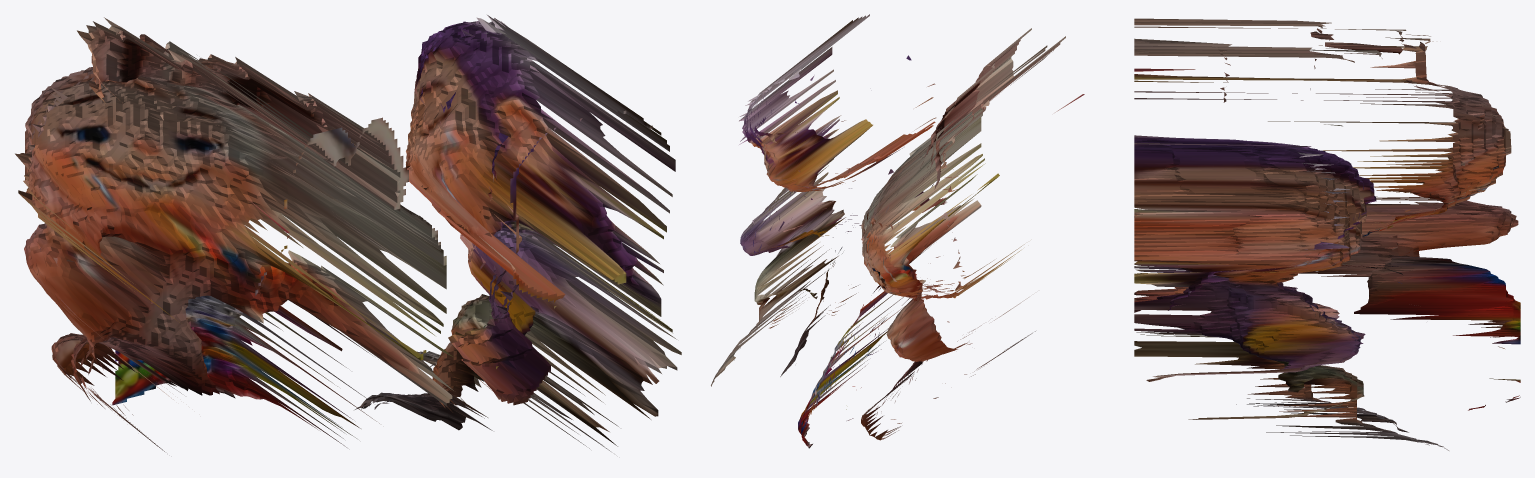
The model's file is frame_00410.glb.
3 renders of one model, left to right at view 1: azimuth 30°, elevation 25°; view 2: azimuth 150°, elevation 25°; view 3: azimuth 270°, elevation 25°, orthographic. The views are drawn at different scales.
Parts seen in each view (by area): view 1: geometry_0; view 2: geometry_0; view 3: geometry_0.
Boxes of the visible parts, left/top/right/bottom form: geometry_0: left=15, top=15, right=681, bottom=451; geometry_0: left=711, top=14, right=1084, bottom=448; geometry_0: left=1134, top=18, right=1520, bottom=450.
Bounding box in the file's own units: 0.1476 × 0.1586 × 0.16.
Materials: 1 (1 with a texture image).
